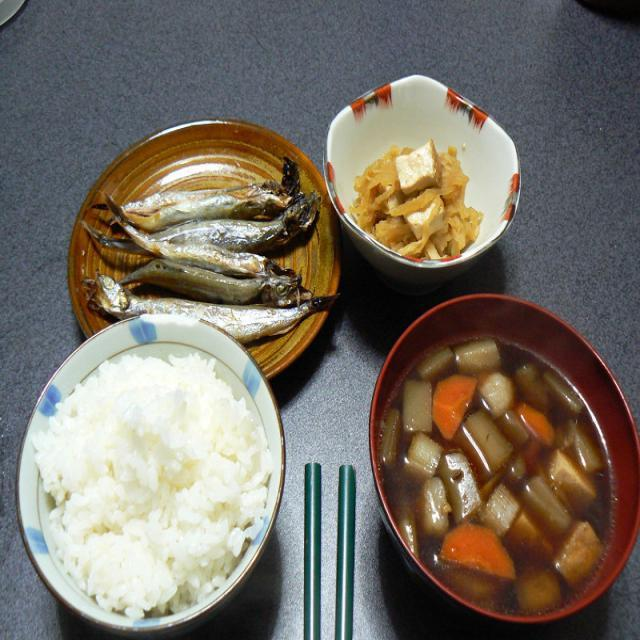Rice: (34, 342, 270, 623)
